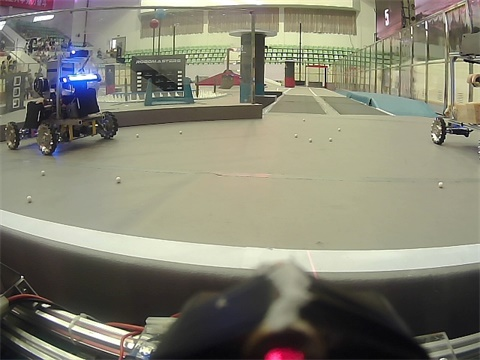chariot: (23, 46, 113, 179)
